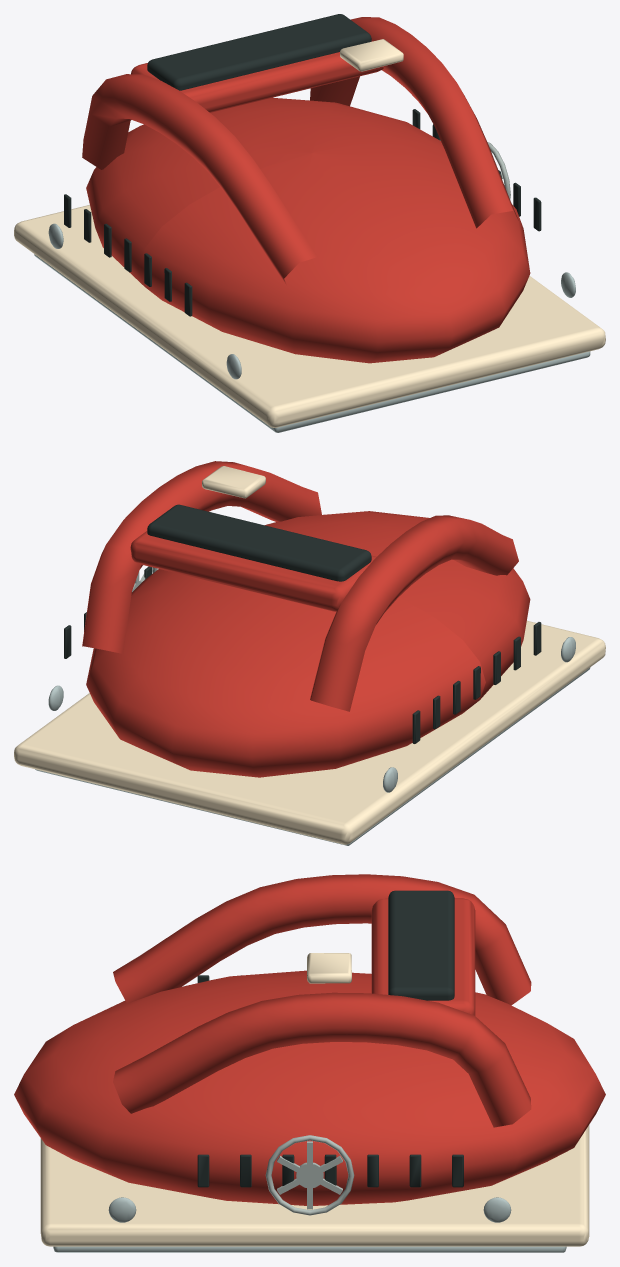
Rendered from mixer-light.glb.
3 views of the same model, one above another, from view 1: azimuth 30°, elevation 25°; view 2: azimuth 150°, elevation 25°; view 3: azimuth 270°, elevation 25° (orthographic). The views are drawn at different scales.
Parts seen in each view (by area): view 1: motor_shell, ivory, dark, steel; view 2: motor_shell, ivory, dark, steel; view 3: motor_shell, ivory, dark, steel, mechanism_pulley.
Boxes of the visible parts, left/top/right/bottom form: motor_shell: left=82, top=17, right=530, bottom=363; ivory: left=14, top=39, right=605, bottom=427; dark: left=64, top=14, right=541, bottom=316; steel: left=34, top=223, right=590, bottom=432; motor_shell: left=82, top=461, right=530, bottom=777; ivory: left=14, top=466, right=605, bottom=844; dark: left=64, top=504, right=541, bottom=743; steel: left=35, top=637, right=590, bottom=845; motor_shell: left=14, top=874, right=605, bottom=1205; ivory: left=40, top=953, right=589, bottom=1246; dark: left=197, top=890, right=463, bottom=1187; steel: left=53, top=1197, right=566, bottom=1252; mechanism_pulley: left=265, top=1135, right=354, bottom=1215.
Bounding box in the file's own units: 0.4366 × 0.286 × 0.6.
